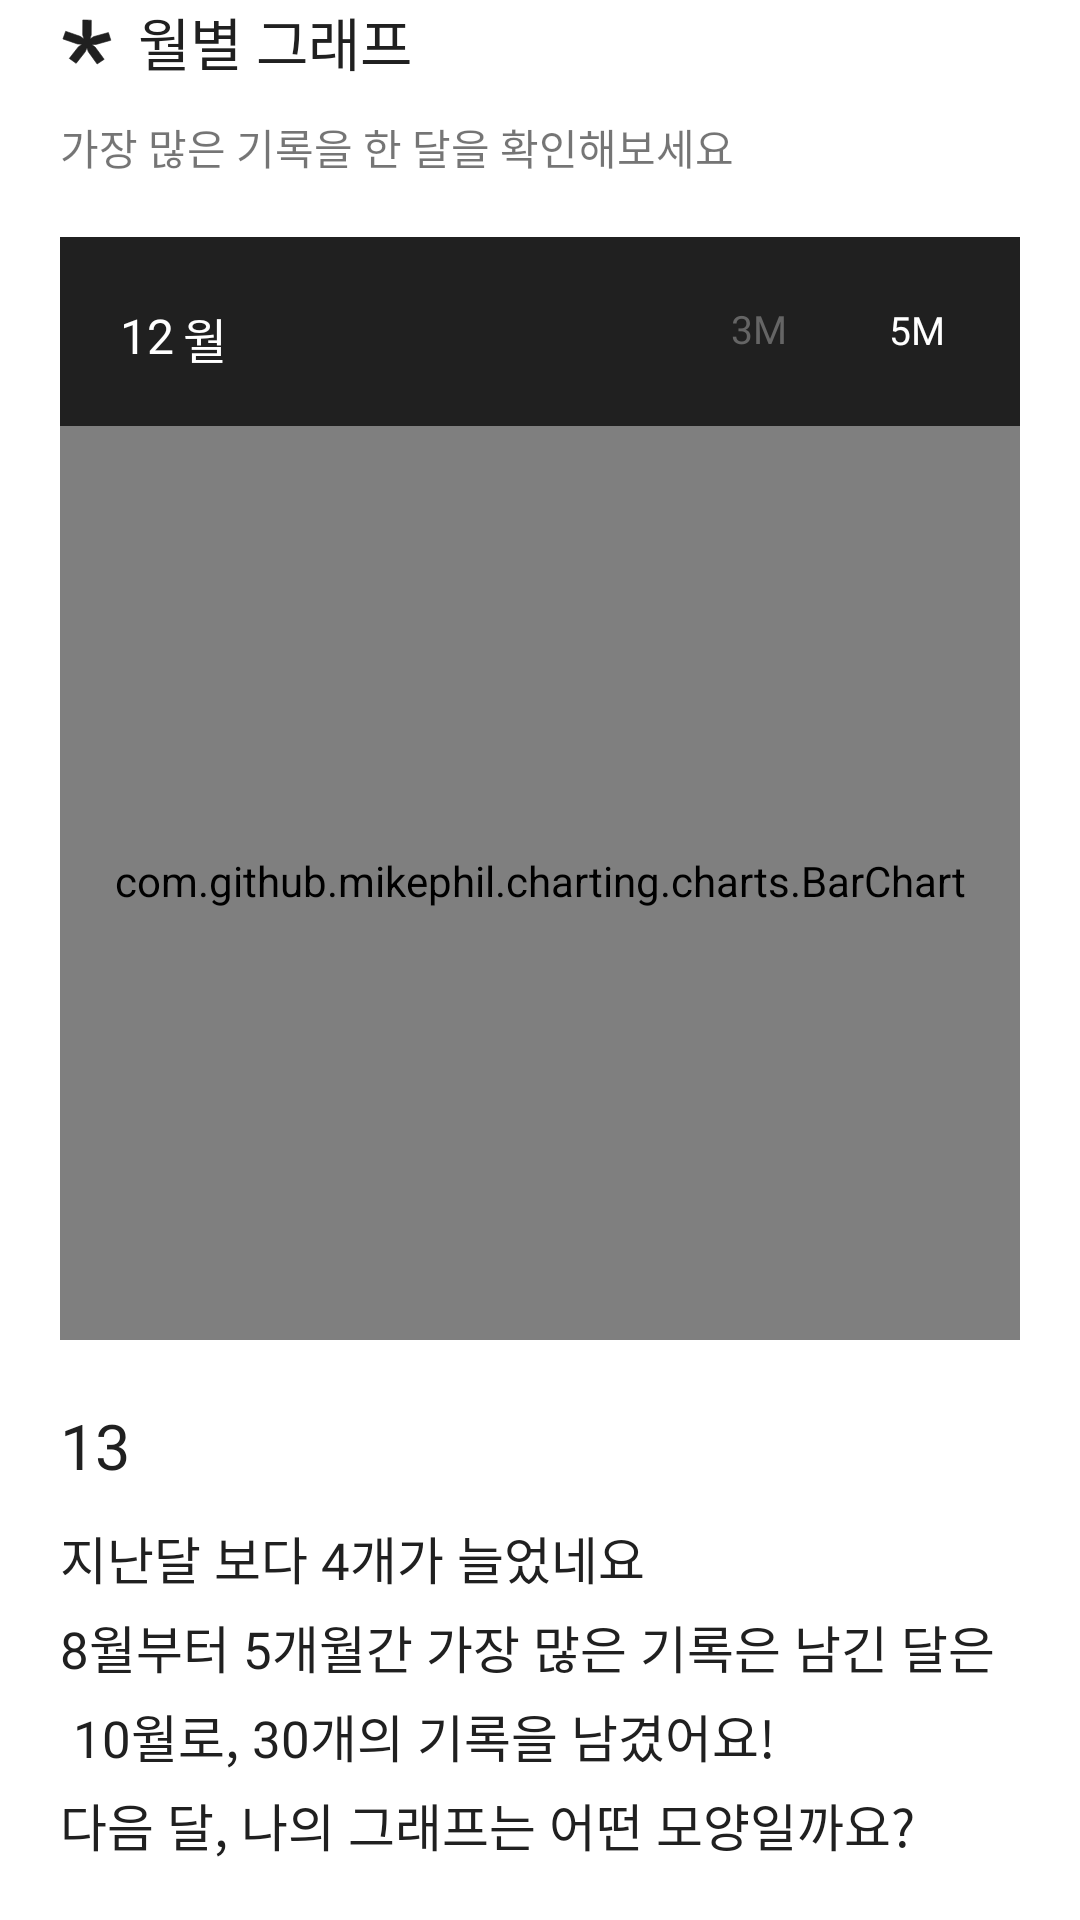

Screen size 1080 × 1920. Icon name, then its center in pixels as [x,y]:
star: [86,42]
